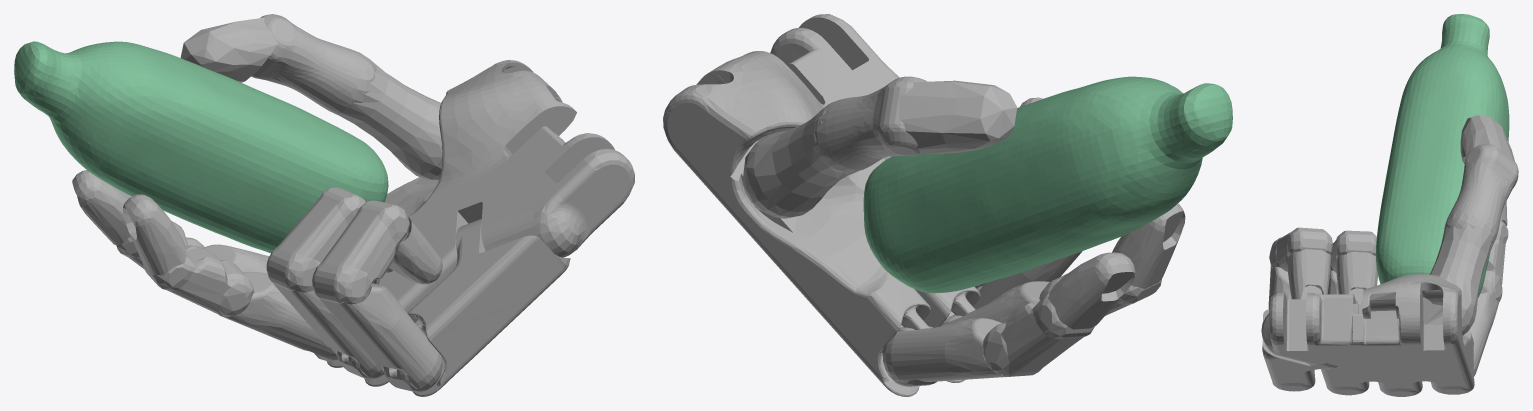
3 renders of one model, left to right at view 1: azimuth 30°, elevation 25°; view 2: azimuth 150°, elevation 25°; view 3: azimuth 270°, elevation 25°, orthographic. The views are drawn at different scales.
Parts seen in each view (by area): view 1: world; view 2: world; view 3: world.
Part boxes in pixels (x1=…): world: x1=14, y1=14, x2=634, y2=396; world: x1=663, y1=14, x2=1232, y2=396; world: x1=1261, y1=14, x2=1518, y2=396.
Size of the model in its own units: 1.3 by 0.8575 by 0.7078.
